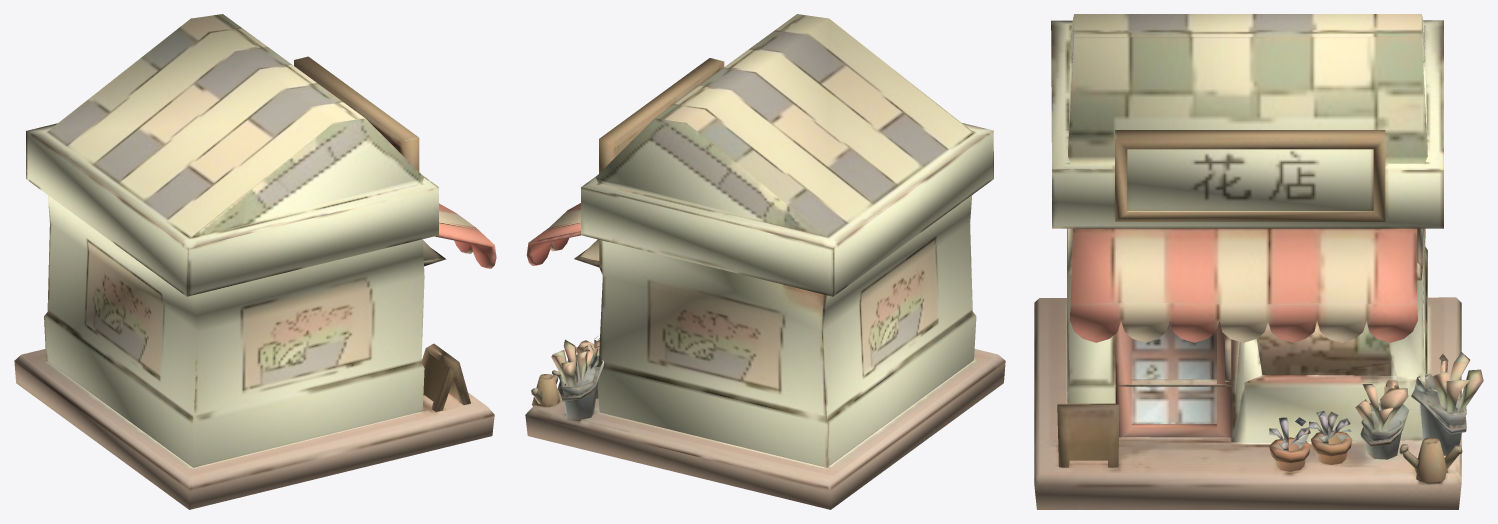
Rendered from 花店3d模型.fbx.
The picture shows the model from 3 angles, left to right: view 1: azimuth 30°, elevation 25°; view 2: azimuth 150°, elevation 25°; view 3: azimuth 270°, elevation 25°; orthographic projection. The views are drawn at different scales.
Parts seen in each view (by area): view 1: tripo_node_52781957; view 2: tripo_node_52781957; view 3: tripo_node_52781957.
Boxes of the visible parts, left/top/right/bottom form: tripo_node_52781957: left=14, top=14, right=496, bottom=509; tripo_node_52781957: left=525, top=14, right=1005, bottom=509; tripo_node_52781957: left=1034, top=14, right=1483, bottom=509.
Size of the model in its own units: 0.998 by 0.998 by 0.9902.
